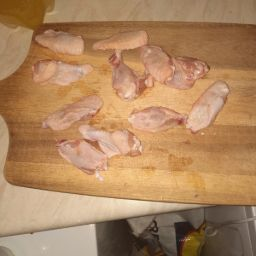Chicken: (84, 25, 244, 142), (15, 110, 148, 184), (109, 53, 215, 97), (25, 85, 112, 130), (25, 23, 90, 67), (23, 53, 103, 87), (126, 101, 191, 137), (97, 30, 154, 62)
